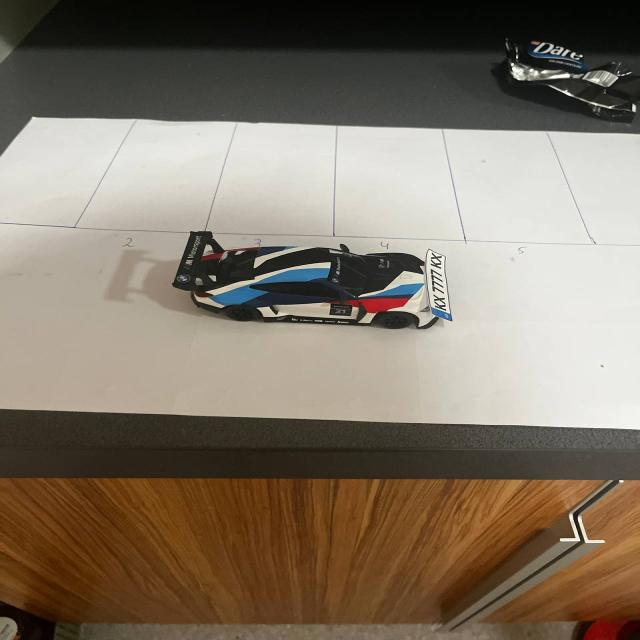cars: (150, 224, 492, 343)
